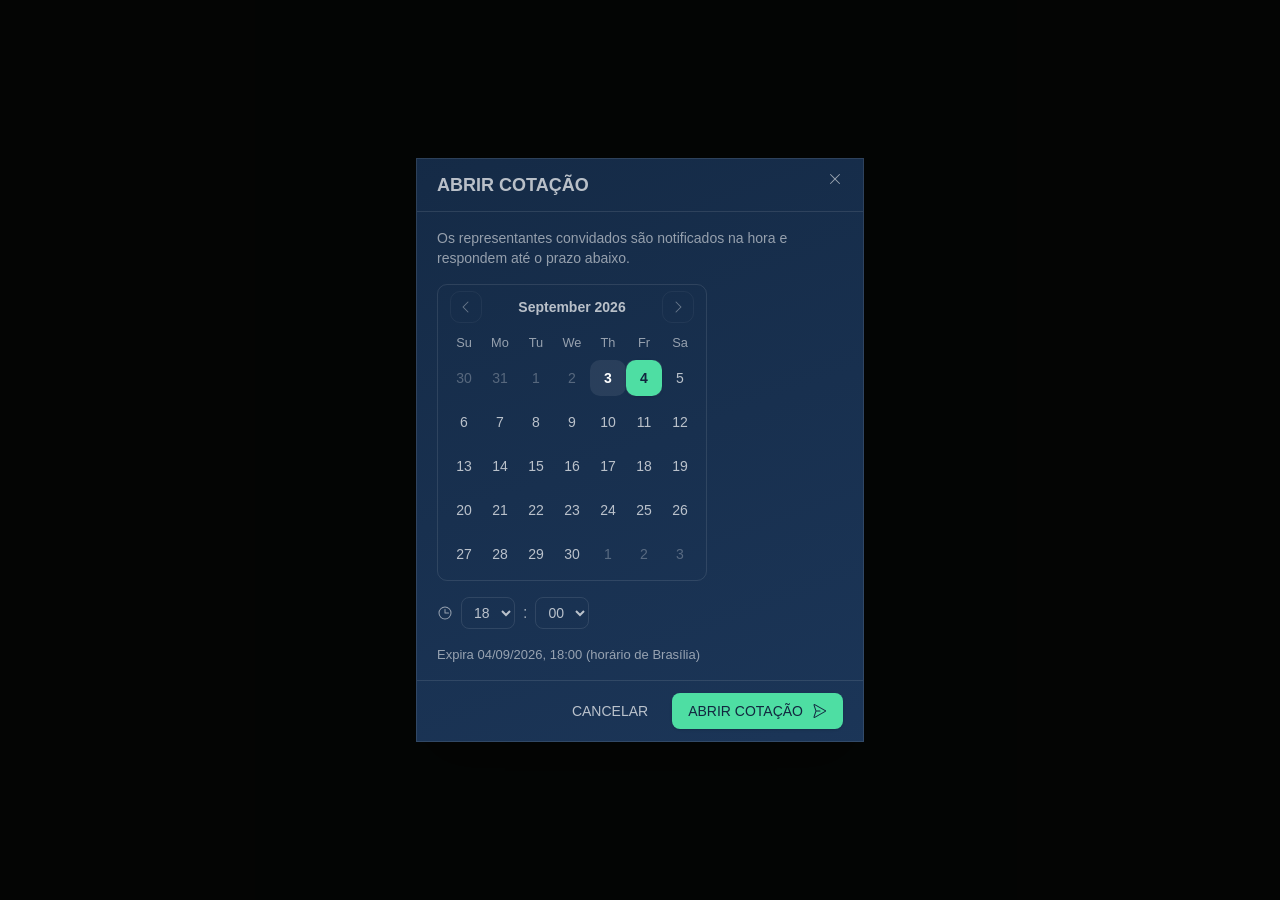
Test: AbrirCotacaoDialog — seleção de prazo por calendário › trocar a hora atualiza a prévia do prazo
Select "10" in the dropdown named "Hora" at (488, 613), box [461,597,515,629]
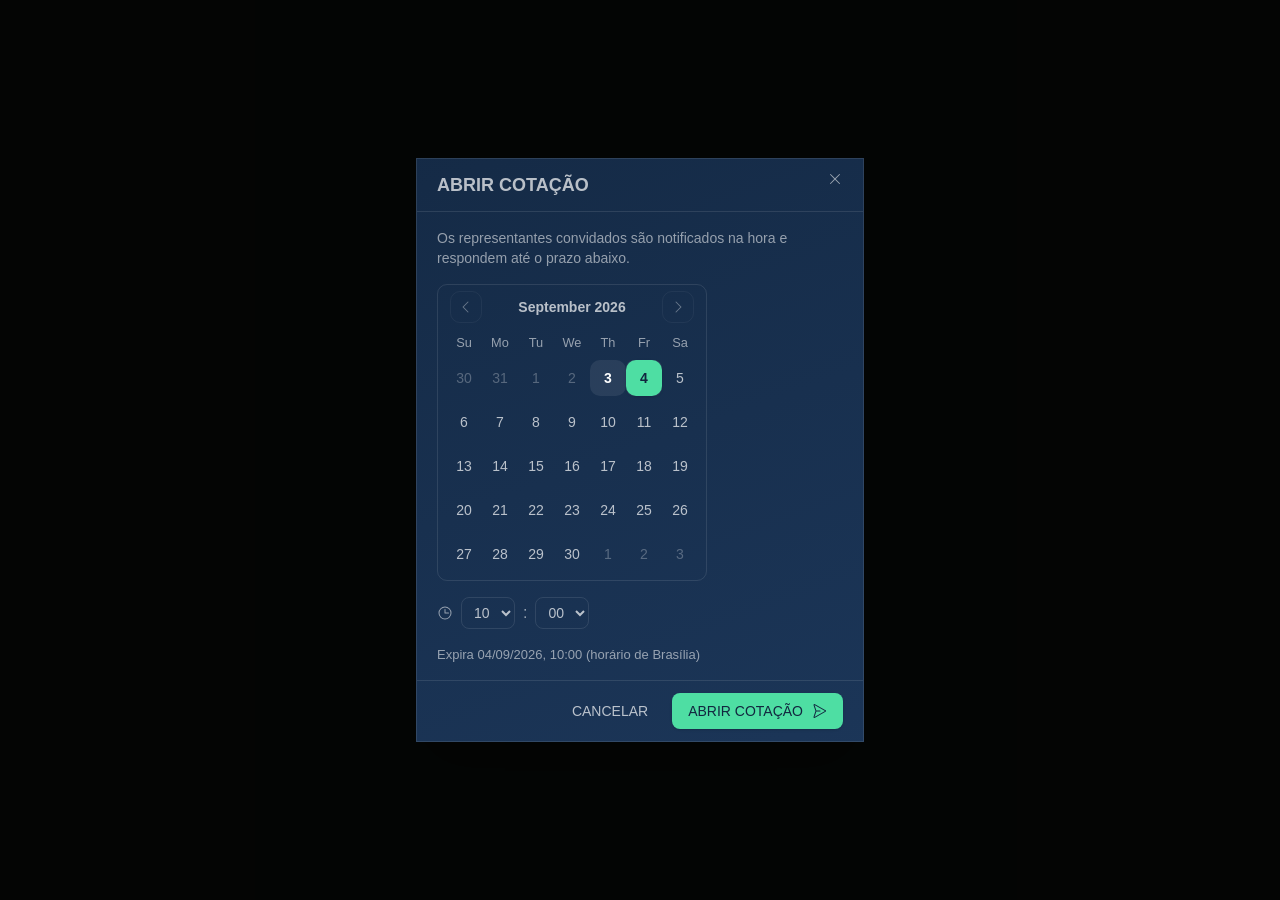
Expected: the text "Expira 04/09/2026, 10:00 (horário de Brasília)" is shown, [437,647,700,662]
